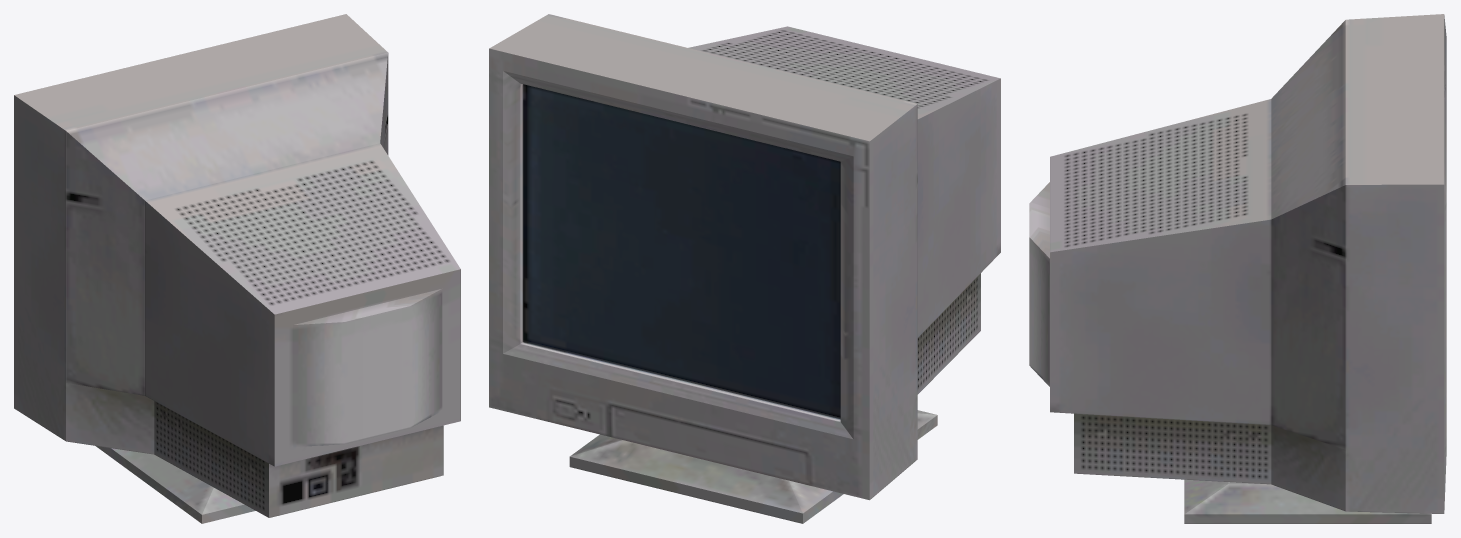
File: monitor_19_inch.fbx
3 views of the same model, side by side, from view 1: azimuth 30°, elevation 25°; view 2: azimuth 150°, elevation 25°; view 3: azimuth 270°, elevation 25° (orthographic). The views are drawn at different scales.
Visible parts, largest first — view 1: mesh_0; view 2: mesh_0; view 3: mesh_0.
Boxes of the visible parts, x1,y1,x2,y2 form: mesh_0: (14,14,460,523); mesh_0: (489,14,1000,523); mesh_0: (1029,14,1446,523).
Size of the model in its own units: 44 by 44.79 by 45.47.
Materials: 1 (1 with a texture image).
